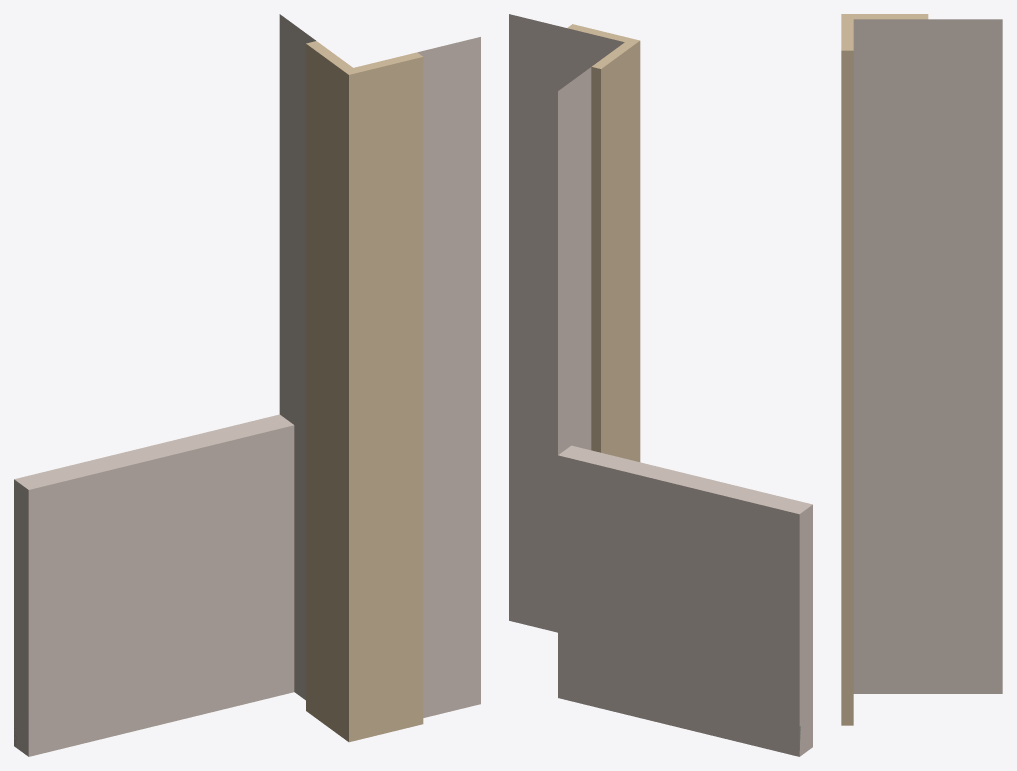
The model's file is mid-c4_close.fbx.
The picture shows the model from 3 angles, left to right: view 1: azimuth 30°, elevation 25°; view 2: azimuth 150°, elevation 25°; view 3: azimuth 270°, elevation 25°; orthographic projection. The views are drawn at different scales.
Parts seen in each view (by area): view 1: a2001/200/mid-c4_close; view 2: a2001/200/mid-c4_close; view 3: a2001/200/mid-c4_close.
Part boxes in pixels (x1,y1,x2,y2): a2001/200/mid-c4_close: (14,14,480,756); a2001/200/mid-c4_close: (509,14,812,756); a2001/200/mid-c4_close: (841,14,1002,725).
Size of the model in its own units: 1.85 by 3 by 0.65.
